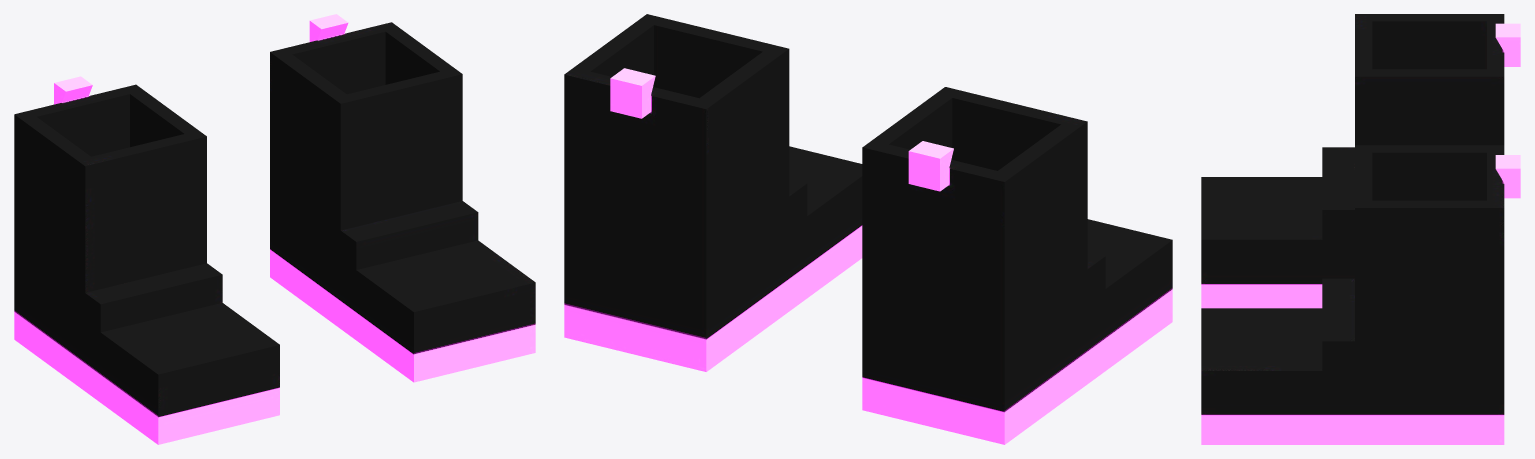
Rendered from led_boots_pink.glb.
3 views of the same model, side by side, from view 1: azimuth 30°, elevation 25°; view 2: azimuth 150°, elevation 25°; view 3: azimuth 270°, elevation 25° (orthographic). The views are drawn at different scales.
Parts seen in each view (by area): view 1: led_boots.001; view 2: led_boots.001; view 3: led_boots.001.
Boxes of the visible parts, left/top/right/bottom form: led_boots.001: left=14, top=14, right=535, bottom=444; led_boots.001: left=564, top=14, right=1172, bottom=444; led_boots.001: left=1201, top=14, right=1520, bottom=444.
Size of the model in its own units: 2.81 by 1.7 by 1.95.
Materials: 1 (1 with a texture image).
